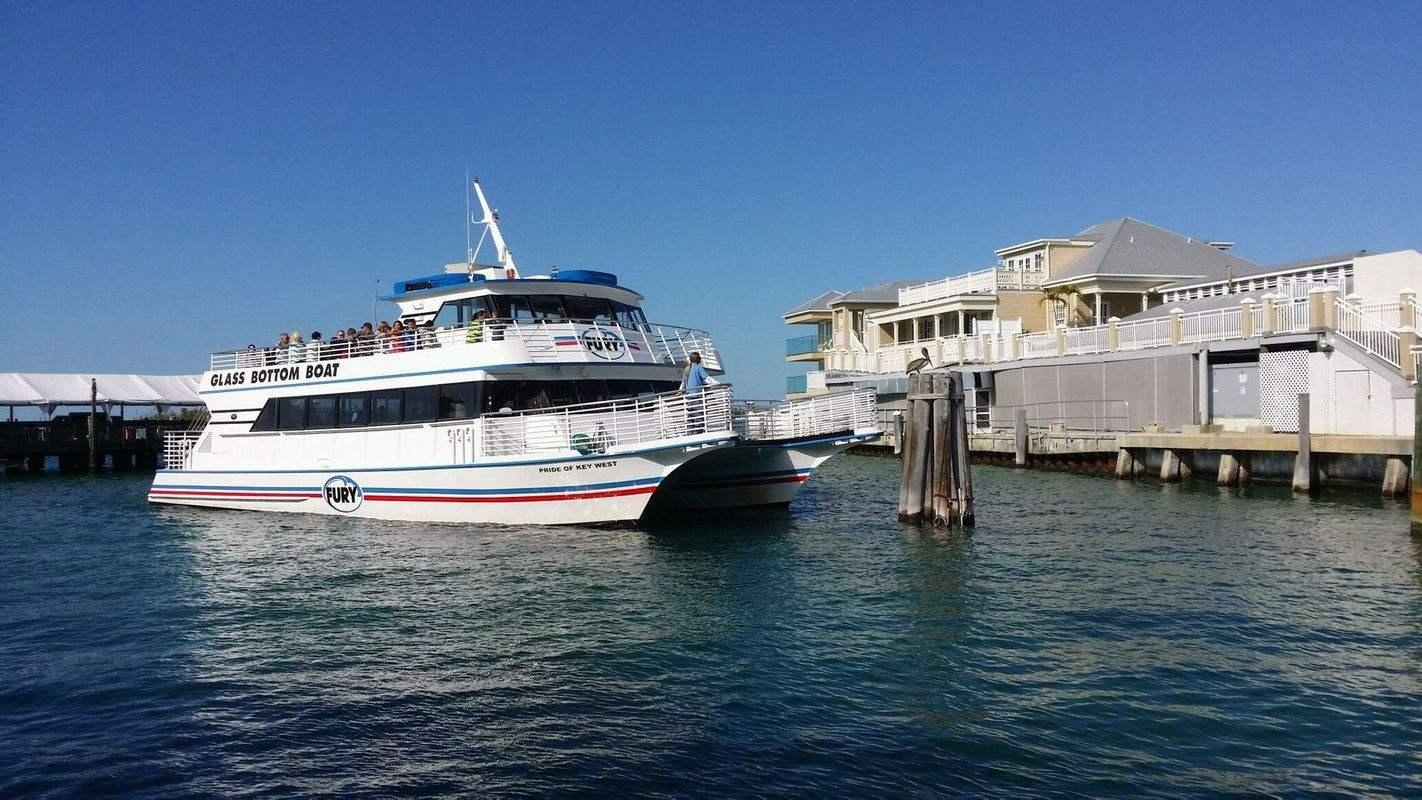yacht: (126, 224, 829, 522)
